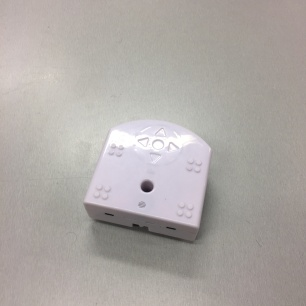thymio: (80, 114, 213, 252)
